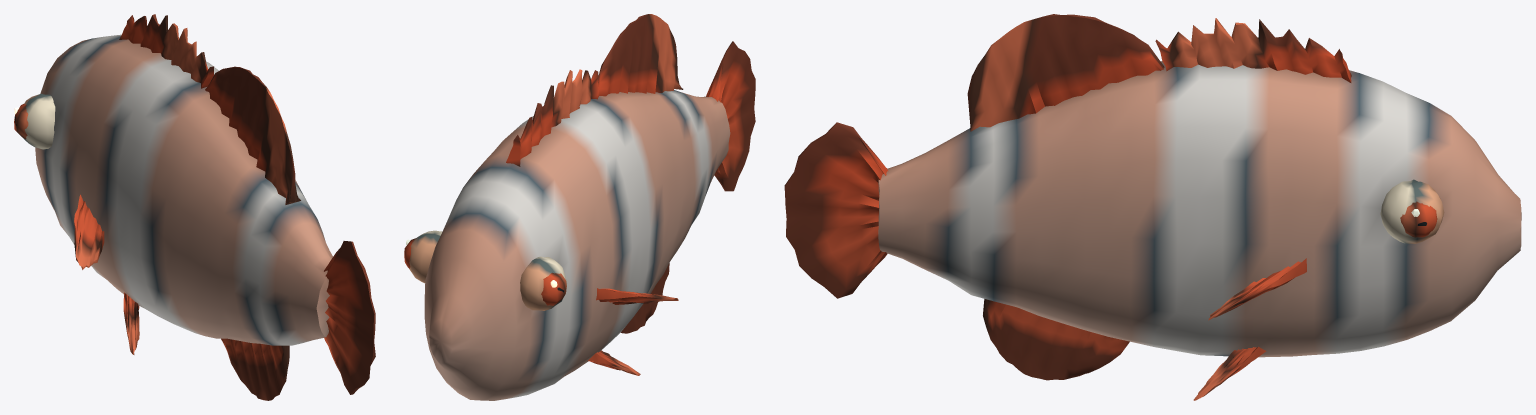
Rendered from clownfish.glb.
The picture shows the model from 3 angles, left to right: view 1: azimuth 30°, elevation 25°; view 2: azimuth 150°, elevation 25°; view 3: azimuth 270°, elevation 25°; orthographic projection. The views are drawn at different scales.
Visible parts, largest first — view 1: clownfish; view 2: clownfish; view 3: clownfish.
Boxes of the visible parts, <box> form: clownfish: <box>14,14,375,400</box>; clownfish: <box>404,14,755,400</box>; clownfish: <box>784,14,1521,400</box>.
Size of the model in its own units: 0.1863 by 0.2633 by 0.4825.
